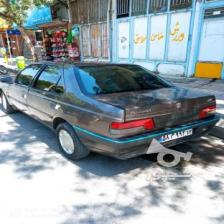plate: (154, 127, 194, 144)
